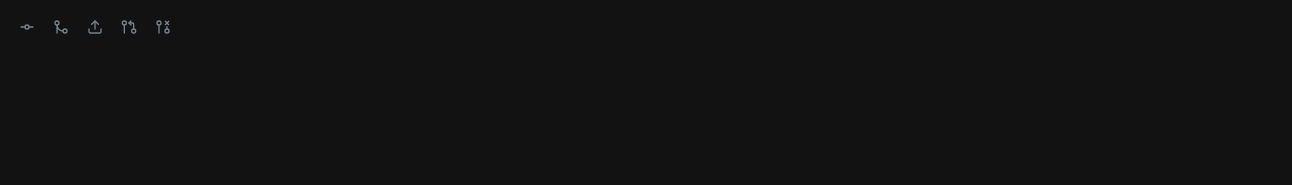
it: offers Codex resolution for verified merge conflicts and submits only the owned thread identity
Later steps or results of the test are not shown.
Click the button named "Merge into main": click(163, 27) [148, 12, 178, 42]
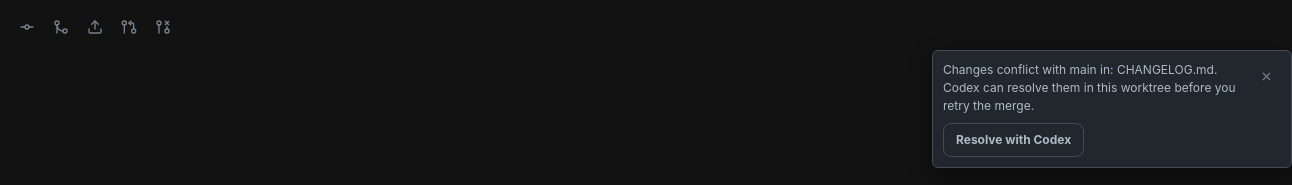
expect the message shows "CHANGELOG.md": met, box [1117, 62, 1214, 77]
expect the message shows "Changes conflict with main": met, box [932, 50, 1291, 168]
expect the button "Resolve with Codex" is shown: met
Click the button "Resolve with Codex": click(1014, 140) [943, 123, 1084, 157]
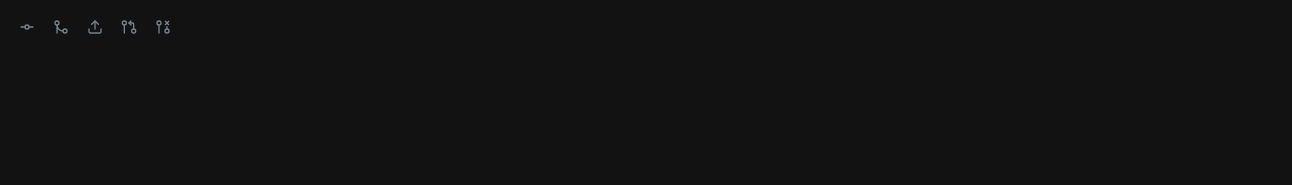
expect the message is gone: met
